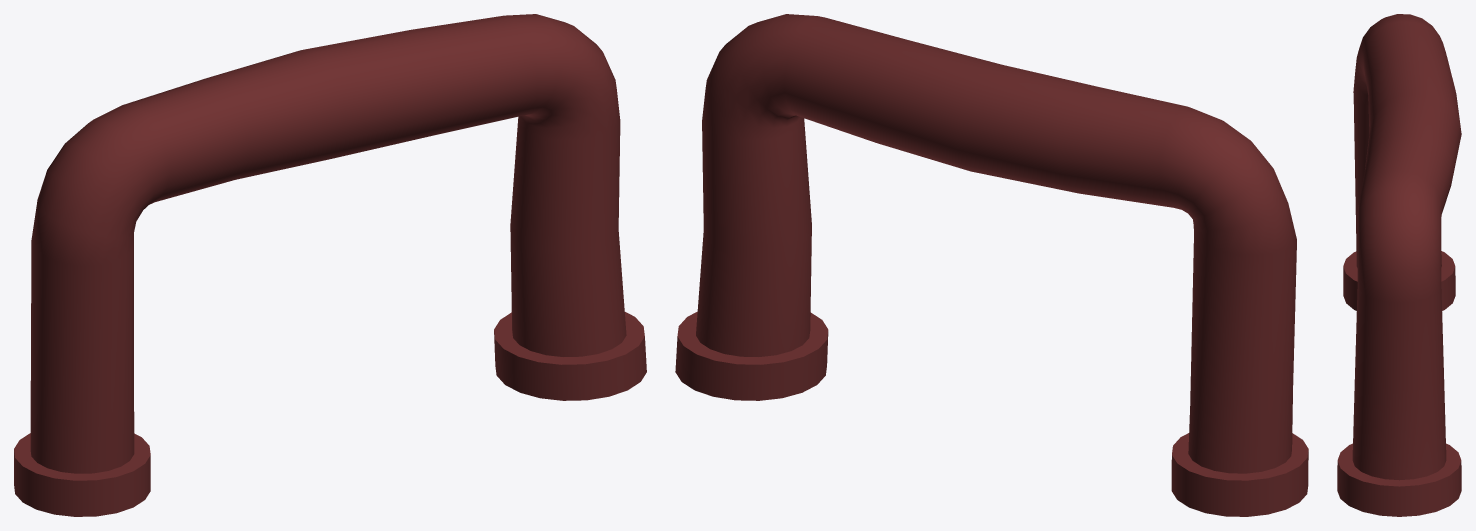
The model's file is mesh_BarandaChica.fbx.
3 renders of one model, left to right at view 1: azimuth 30°, elevation 25°; view 2: azimuth 150°, elevation 25°; view 3: azimuth 270°, elevation 25°, orthographic. The views are drawn at different scales.
Parts seen in each view (by area): view 1: mesh_BarandaChica; view 2: mesh_BarandaChica; view 3: mesh_BarandaChica.
Part boxes in pixels (x1,y1,x2,y2): mesh_BarandaChica: (14, 14, 646, 516); mesh_BarandaChica: (675, 14, 1308, 516); mesh_BarandaChica: (1337, 14, 1461, 516).
Size of the model in its own units: 167 by 95.82 by 35.93.
